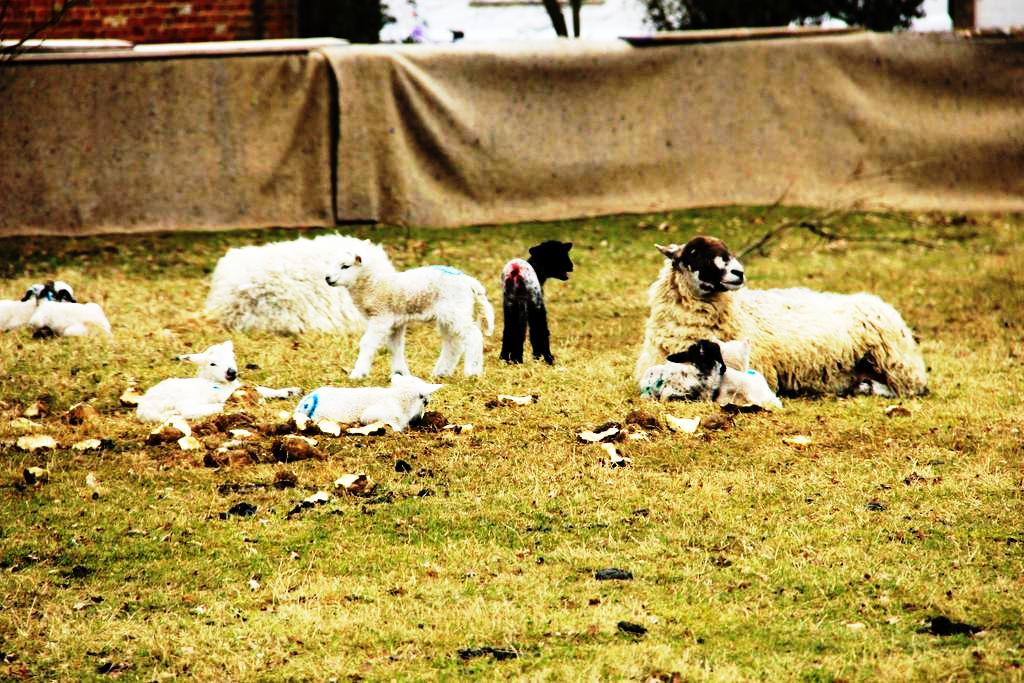Sheep: (638, 245, 936, 417), (322, 244, 492, 379), (200, 239, 394, 329), (135, 342, 303, 420), (294, 376, 446, 439), (642, 340, 776, 410), (500, 242, 570, 364), (23, 285, 111, 338), (0, 282, 77, 330)
